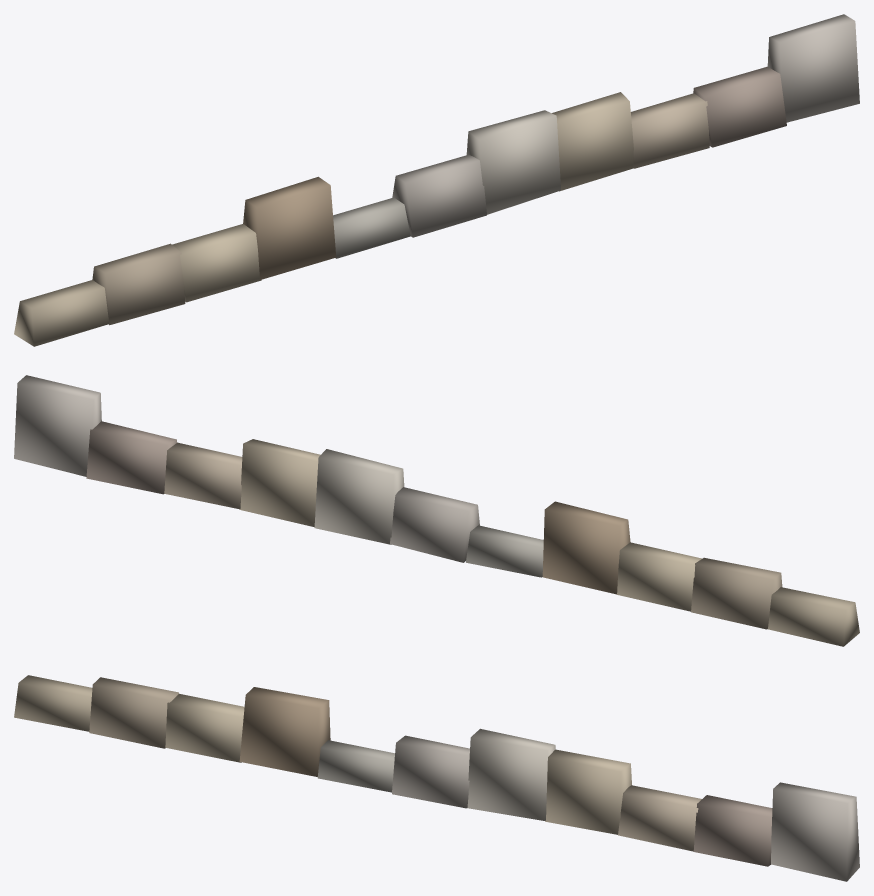
File: farm_29_32_far.glb
3 renders of one model, top to bottom at view 1: azimuth 30°, elevation 25°; view 2: azimuth 150°, elevation 25°; view 3: azimuth 330°, elevation 25°, orthographic. The views are drawn at different scales.
Parts seen in each view (by area): view 1: geometry_0; view 2: geometry_0; view 3: geometry_0.
Boxes of the visible parts, left/top/right/bottom form: geometry_0: left=14, top=14, right=859, bottom=346; geometry_0: left=14, top=375, right=859, bottom=646; geometry_0: left=14, top=675, right=859, bottom=881.
Size of the model in its own units: 17.17 by 1.77 by 1.69.
